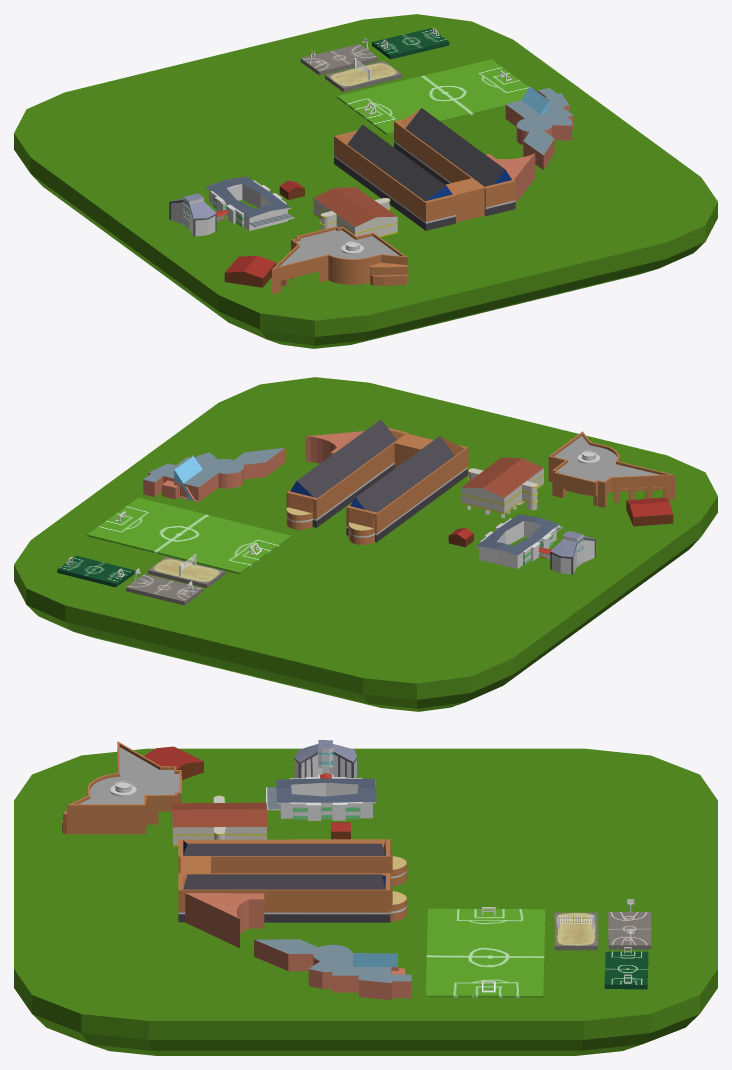
The picture shows the model from 3 angles, top to bottom: view 1: azimuth 30°, elevation 25°; view 2: azimuth 150°, elevation 25°; view 3: azimuth 270°, elevation 25°; orthographic projection. The views are drawn at different scales.
Visible parts, largest first — view 1: suelo flotante_21, Plane.005_4, Plane.008_6, entrada y biblio_11, Plane.001_12, cafeteria_1, Plane.002_2, Plane.014_13, Plane.011_8, Plane.009_7, Plane.010_10, caseta 1_0 (+1 smaller); view 2: suelo flotante_21, Plane.005_4, Plane.008_6, entrada y biblio_11, Plane.001_12, cafeteria_1, Plane.002_2, Plane.014_13, Plane.011_8, Plane.009_7, Plane.010_10, caseta 1_0 (+1 smaller); view 3: suelo flotante_21, Plane.005_4, Plane.008_6, entrada y biblio_11, Plane.001_12, Plane.002_2, cafeteria_1, Plane.006_5, Plane.014_13, Plane.011_8, Plane.009_7, Plane.010_10 (+1 smaller).
Part boxes in pixels (left/top/right/bottom): suelo flotante_21: left=14, top=14, right=717, bottom=348; Plane.005_4: left=334, top=108, right=515, bottom=230; Plane.008_6: left=337, top=59, right=528, bottom=134; entrada y biblio_11: left=272, top=226, right=408, bottom=293; Plane.001_12: left=505, top=86, right=573, bottom=169; cafeteria_1: left=313, top=187, right=397, bottom=237; Plane.002_2: left=206, top=176, right=294, bottom=230; Plane.014_13: left=169, top=193, right=216, bottom=236; Plane.011_8: left=372, top=28, right=449, bottom=59; Plane.009_7: left=300, top=44, right=377, bottom=75; Plane.010_10: left=325, top=60, right=402, bottom=92; caseta 1_0: left=224, top=255, right=276, bottom=287; suelo flotante_21: left=14, top=377, right=717, bottom=711; Plane.005_4: left=286, top=419, right=468, bottom=544; Plane.008_6: left=87, top=497, right=291, bottom=574; entrada y biblio_11: left=548, top=431, right=674, bottom=507; Plane.001_12: left=143, top=447, right=284, bottom=501; cafeteria_1: left=461, top=457, right=543, bottom=518; Plane.002_2: left=476, top=514, right=562, bottom=568; Plane.014_13: left=550, top=531, right=595, bottom=574; Plane.011_8: left=57, top=555, right=134, bottom=587; Plane.009_7: left=126, top=574, right=203, bottom=605; Plane.010_10: left=148, top=556, right=225, bottom=588; caseta 1_0: left=626, top=497, right=673, bottom=526; suelo flotante_21: left=14, top=748, right=717, bottom=1055; Plane.005_4: left=178, top=839, right=406, bottom=922; Plane.008_6: left=426, top=908, right=545, bottom=997; entrada y biblio_11: left=62, top=741, right=181, bottom=834; Plane.001_12: left=254, top=939, right=411, bottom=1000; Plane.002_2: left=266, top=777, right=376, bottom=820; cafeteria_1: left=172, top=795, right=266, bottom=846; Plane.006_5: left=185, top=893, right=264, bottom=948; Plane.014_13: left=294, top=740, right=356, bottom=778; Plane.011_8: left=604, top=951, right=648, bottom=989; Plane.009_7: left=608, top=912, right=651, bottom=949; Plane.010_10: left=554, top=912, right=597, bottom=950.
Bounding box in the file's own units: 12.17 × 2.45 × 13.28.
Materials: 16 (15 with a texture image).
